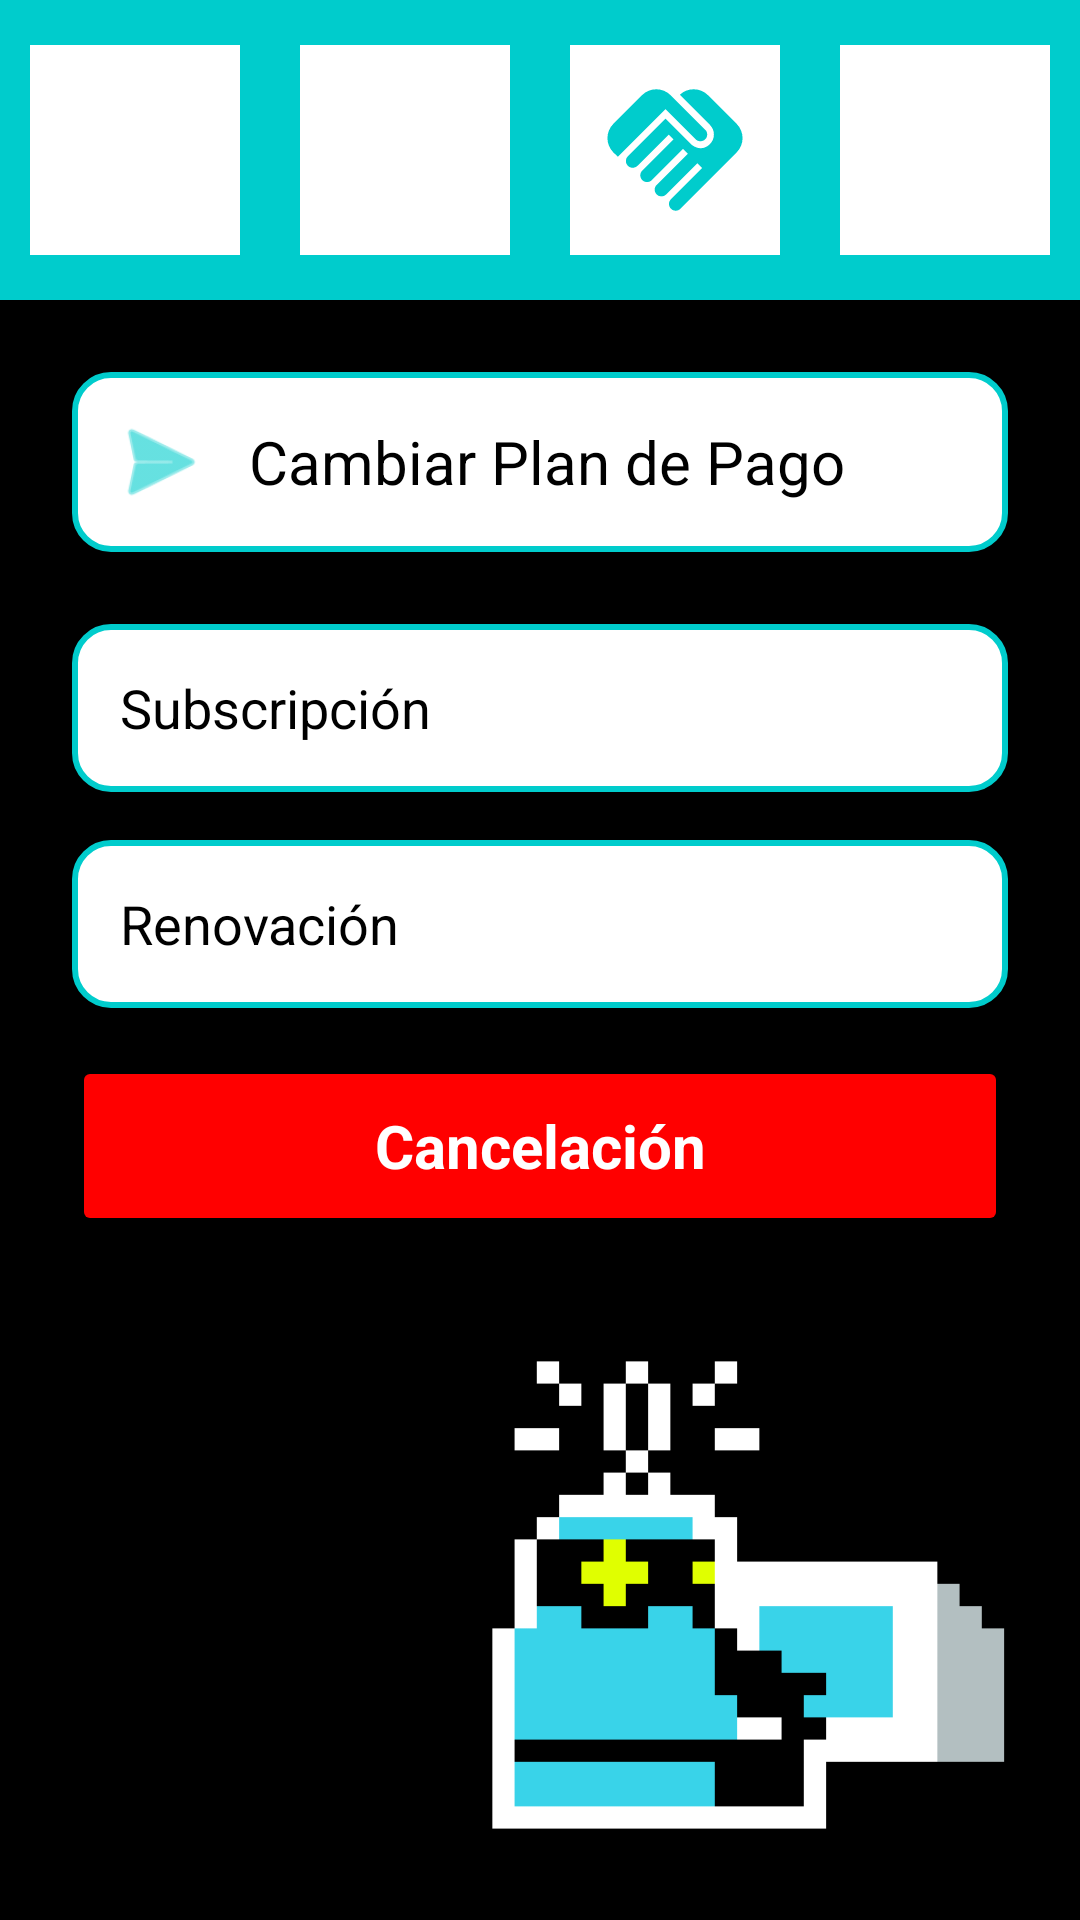

Named icons in this screenshot (1080×1920) and their bounding boxes, Rect(x1, y1, x2, y2):
Entorno compartido: Rect(570, 45, 780, 255)
send: Rect(128, 429, 195, 495)
